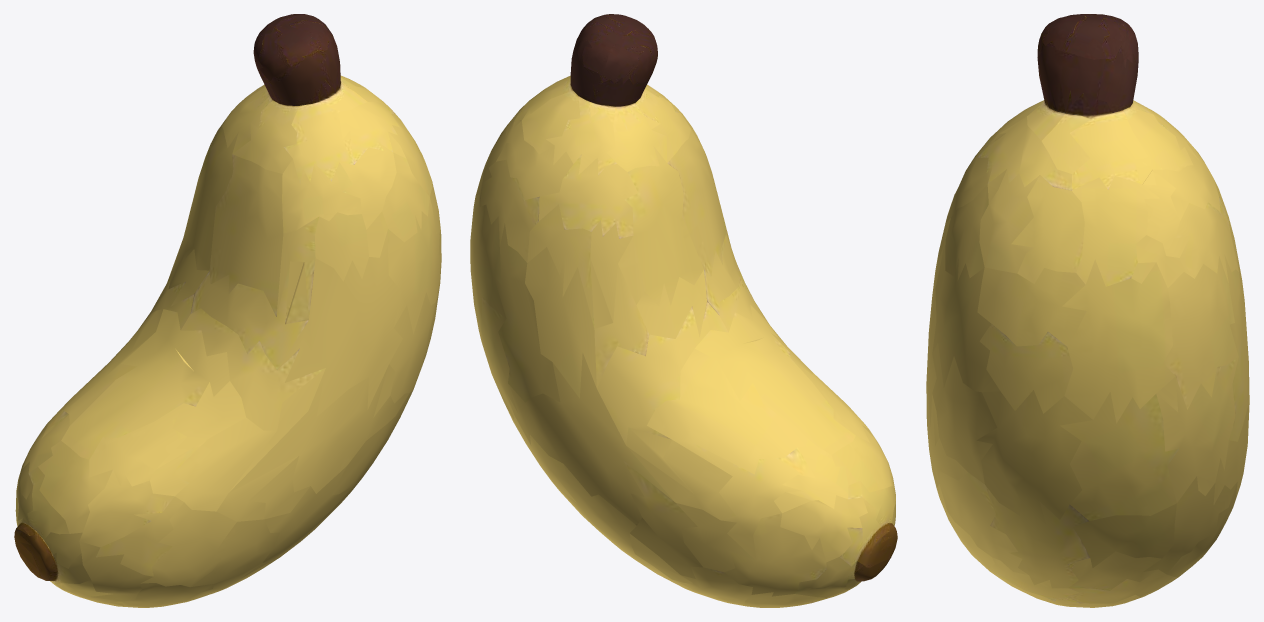
Rendered from banana.glb.
The picture shows the model from 3 angles, left to right: view 1: azimuth 30°, elevation 25°; view 2: azimuth 150°, elevation 25°; view 3: azimuth 270°, elevation 25°; orthographic projection. The views are drawn at different scales.
Visible parts, largest first — view 1: Mesh_0; view 2: Mesh_0; view 3: Mesh_0.
Part boxes in pixels (box(x1,y1,x2,y2)): Mesh_0: box(14, 14, 441, 607); Mesh_0: box(470, 14, 897, 607); Mesh_0: box(926, 14, 1249, 607).
Size of the model in its own units: 1.46 by 1.9 by 0.8621.
1 material, 1 textured.
